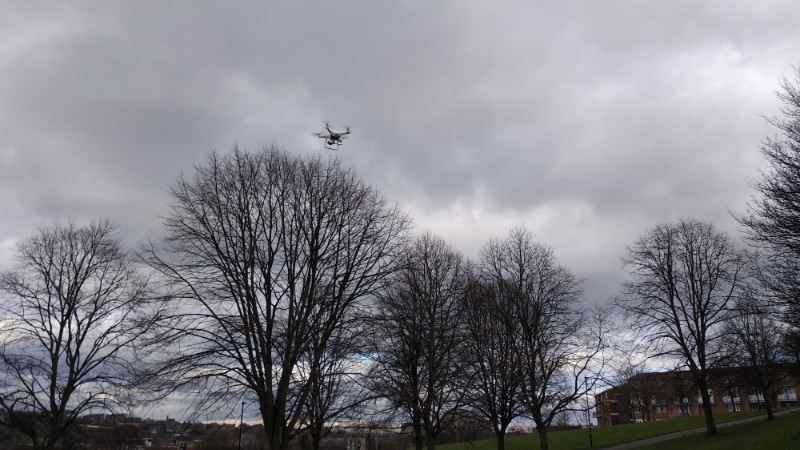drone: (312, 120, 352, 150)
